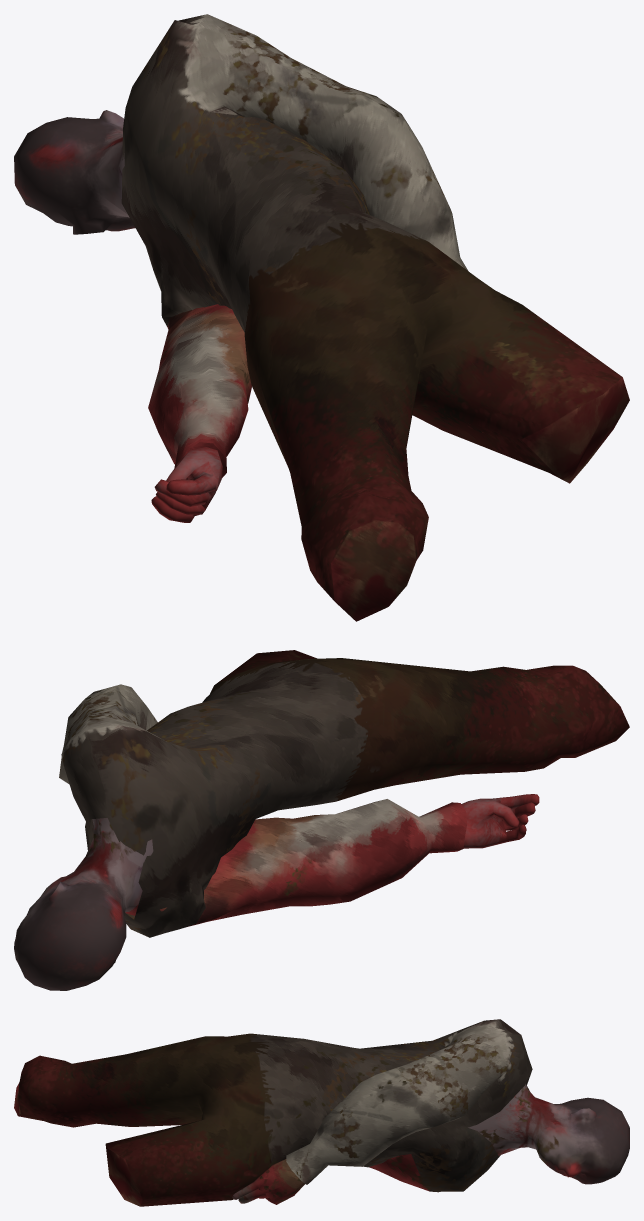
Rendered from bodies3.fbx.
3 renders of one model, top to bottom at view 1: azimuth 30°, elevation 25°; view 2: azimuth 150°, elevation 25°; view 3: azimuth 270°, elevation 25°, orthographic. The views are drawn at different scales.
Visible parts, largest first — view 1: C1_Cloth_low.002; view 2: C1_Cloth_low.002; view 3: C1_Cloth_low.002.
Boxes of the visible parts, box(x1,y1,x2,y2) form: C1_Cloth_low.002: box(14, 14, 629, 621); C1_Cloth_low.002: box(14, 650, 629, 990); C1_Cloth_low.002: box(14, 1019, 629, 1206).
Size of the model in its own units: 63.72 by 40.72 by 132.
